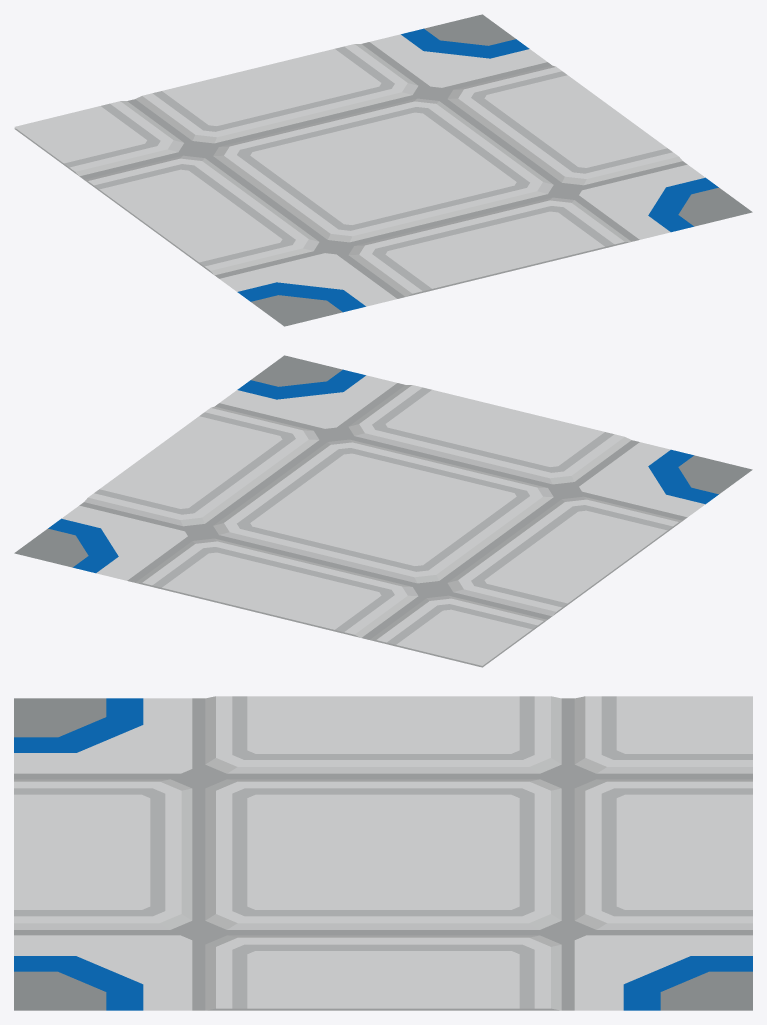
Rendered from Floor_type_A_029.fbx.
The picture shows the model from 3 angles, top to bottom: view 1: azimuth 30°, elevation 25°; view 2: azimuth 150°, elevation 25°; view 3: azimuth 270°, elevation 25°; orthographic projection. The views are drawn at different scales.
Parts seen in each view (by area): view 1: Floor_type_A_029; view 2: Floor_type_A_029; view 3: Floor_type_A_029.
Part boxes in pixels (x1=…): Floor_type_A_029: x1=14, y1=14, x2=752, y2=326; Floor_type_A_029: x1=14, y1=355, x2=752, y2=667; Floor_type_A_029: x1=14, y1=696, x2=752, y2=1010.
Size of the model in its own units: 400 by 400 by 1.34.
